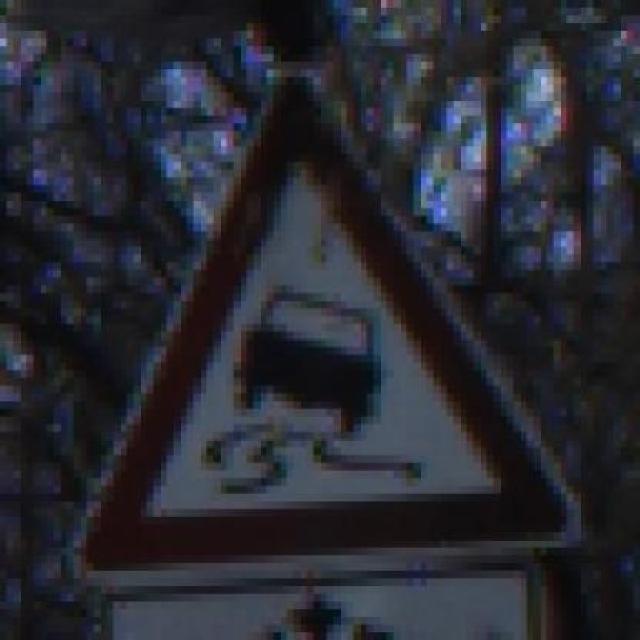Slippery Road Ahead: (53, 61, 593, 578)
